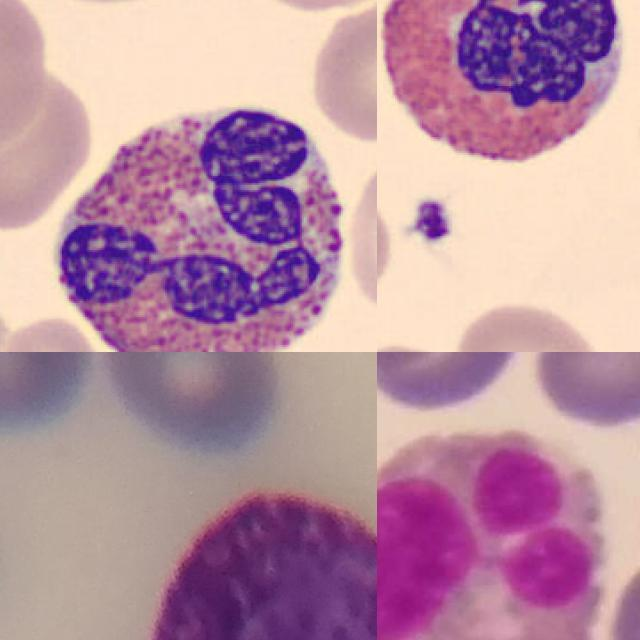Basophil: (148, 493, 377, 640)
Eosinophil: (40, 84, 367, 352), (377, 0, 637, 184), (377, 432, 602, 640)
Platelets: (406, 194, 456, 245)
RBC: (0, 66, 97, 235), (303, 0, 377, 144), (447, 297, 607, 352), (0, 0, 51, 156), (341, 147, 377, 315), (377, 336, 469, 352)
